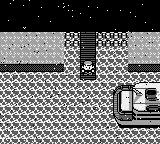captura: (1, 46, 159, 143)
main: (80, 61, 96, 76)
no-caminable: (114, 83, 159, 128), (1, 64, 63, 72), (97, 34, 127, 46), (128, 64, 160, 72), (64, 34, 79, 46)
